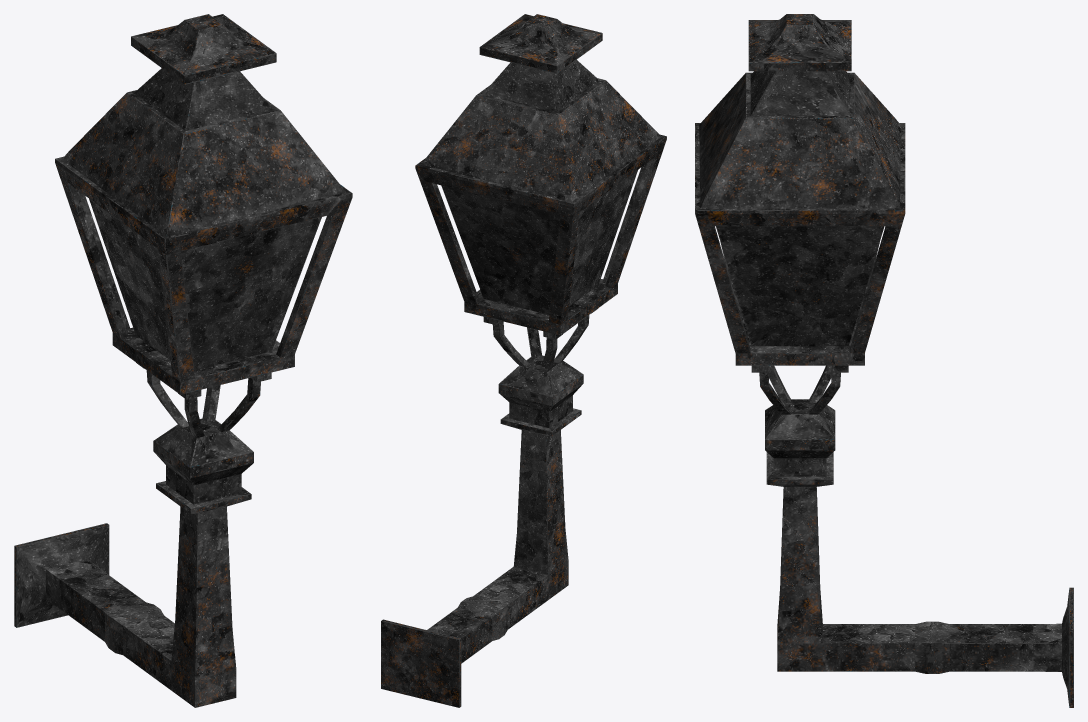
The model's file is WallSconce.fbx.
The picture shows the model from 3 angles, left to right: view 1: azimuth 30°, elevation 25°; view 2: azimuth 150°, elevation 25°; view 3: azimuth 270°, elevation 25°; orthographic projection. The views are drawn at different scales.
Visible parts, largest first — view 1: WallLamp; view 2: WallLamp; view 3: WallLamp.
Part boxes in pixels (x1,y1,x2,y2): WallLamp: [14, 14, 352, 707]; WallLamp: [381, 14, 666, 707]; WallLamp: [695, 14, 1073, 707].
Size of the model in its own units: 146 by 517 by 266.
Materials: 1 (1 with a texture image).
